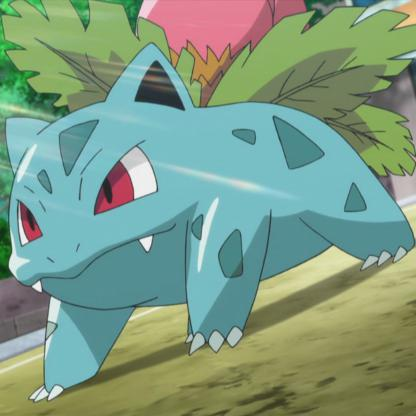Ivysaur: (1, 1, 416, 378)
